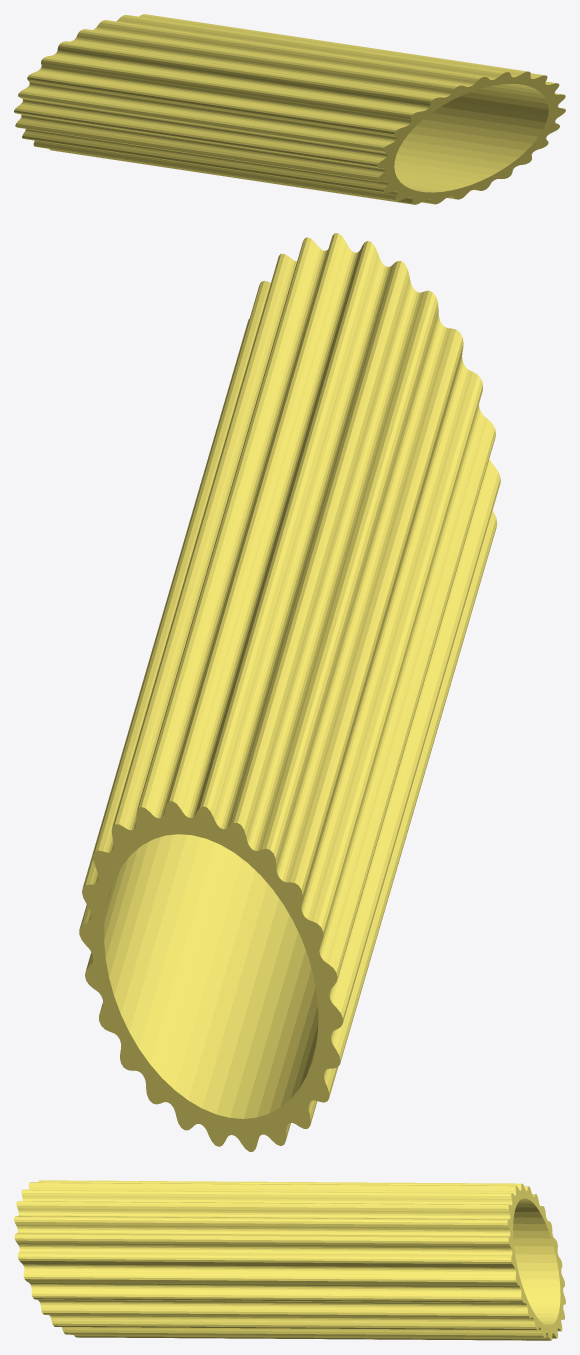
Rendered from Penne.002.gltf.
3 views of the same model, one above another, from view 1: azimuth 30°, elevation 25°; view 2: azimuth 150°, elevation 25°; view 3: azimuth 270°, elevation 25° (orthographic). The views are drawn at different scales.
Parts seen in each view (by area): view 1: Penne.002; view 2: Penne.002; view 3: Penne.002.
Boxes of the visible parts, x1,y1,x2,y2 form: Penne.002: [14, 14, 565, 204]; Penne.002: [79, 233, 500, 1151]; Penne.002: [14, 1180, 565, 1340].
Size of the model in its own units: 1.99 by 1.4 by 3.02.
